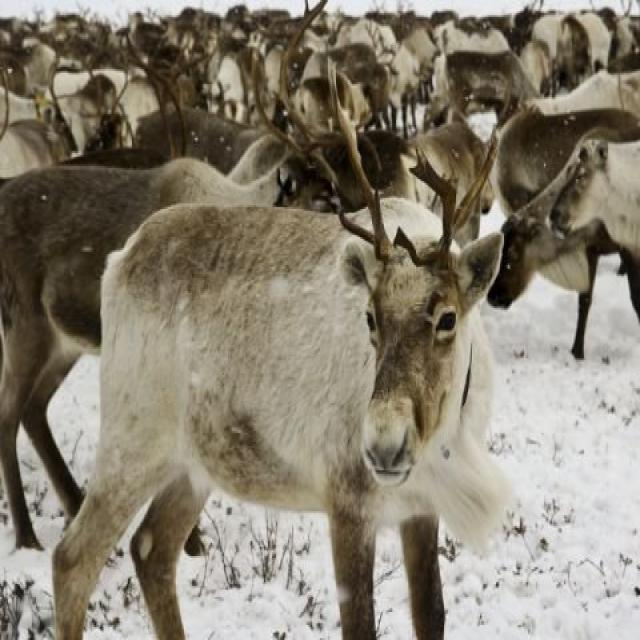Reindeer: (52, 3, 502, 640), (491, 84, 640, 350)
